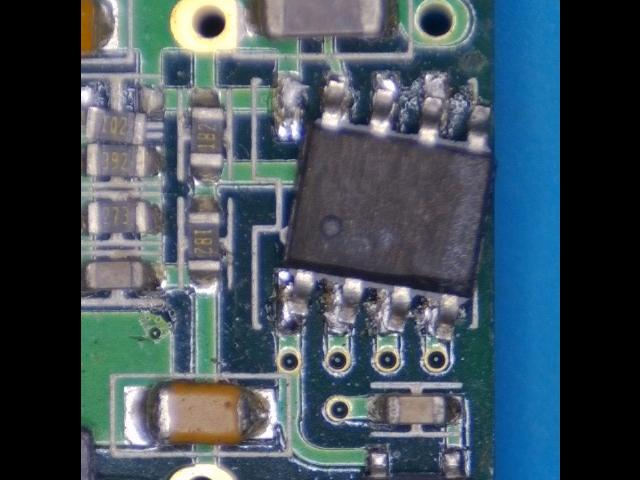Incorrect_installation: (279, 72, 493, 341), (81, 80, 164, 145)
